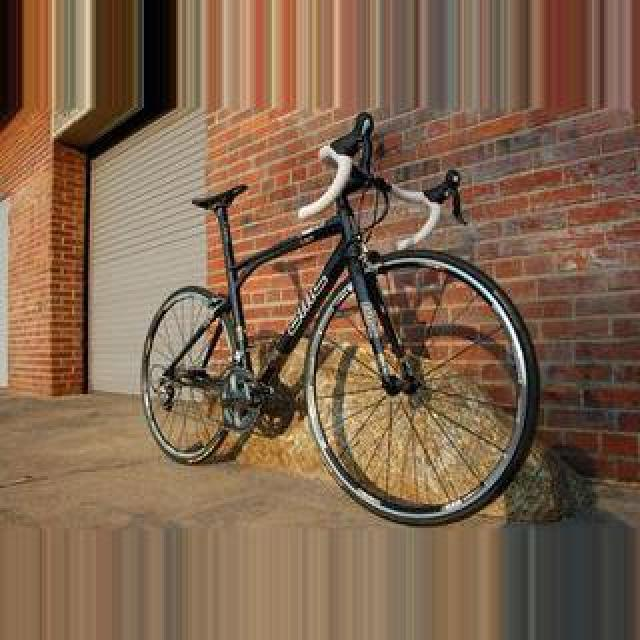Person: (139, 141, 543, 521)
